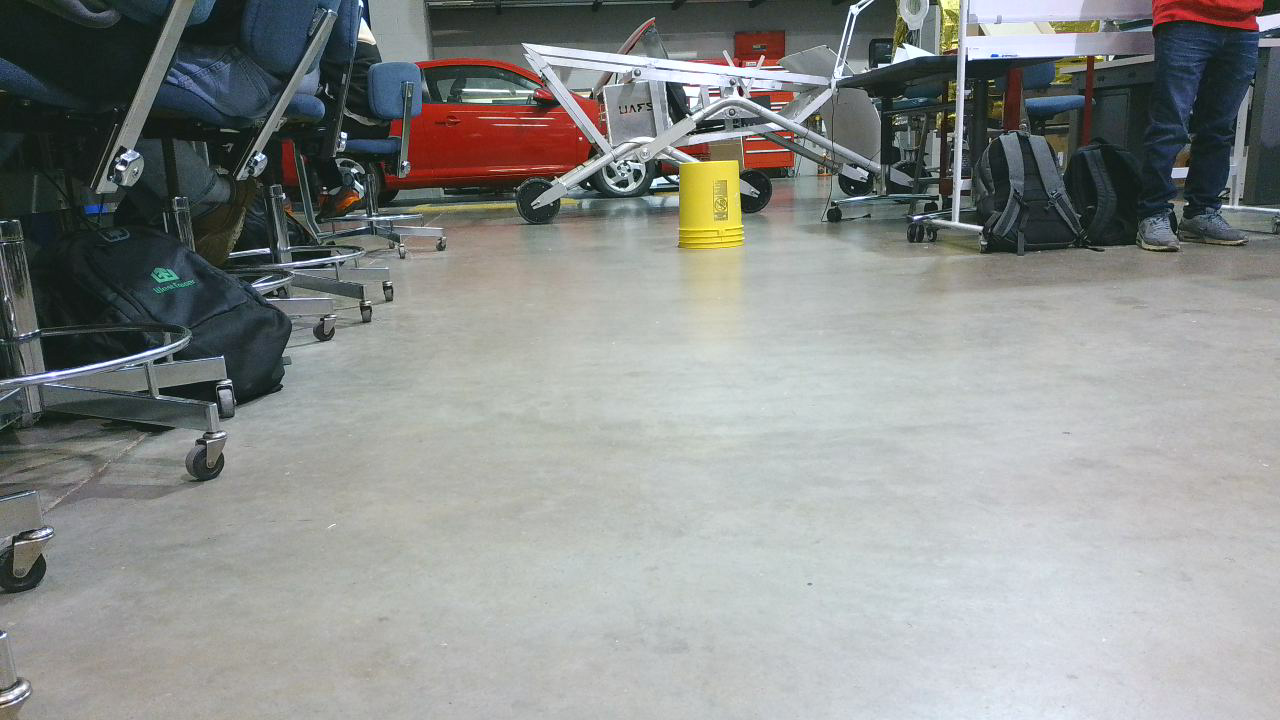blue_bucket: (680, 166, 755, 256)
